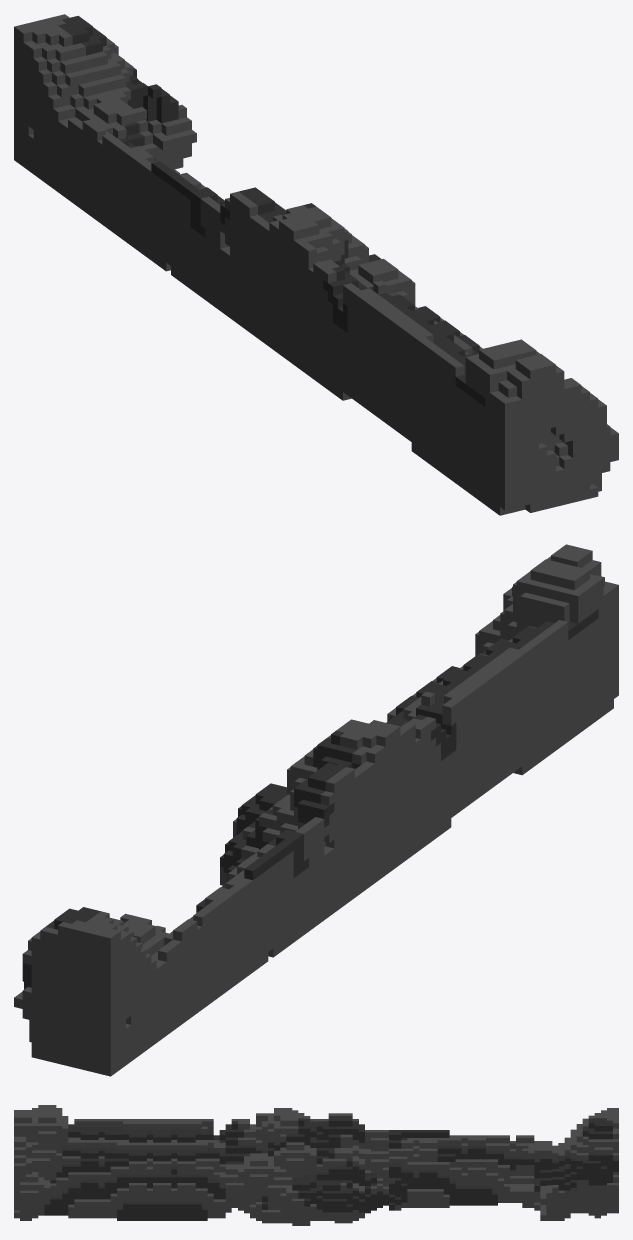
Rendered from Medieval Assets-233-Transition - Elevated Region No Stairs.obj.
The picture shows the model from 3 angles, top to bottom: view 1: azimuth 30°, elevation 25°; view 2: azimuth 150°, elevation 25°; view 3: azimuth 270°, elevation 25°; orthographic projection. The views are drawn at different scales.
Visible parts, largest first — view 1: Transition - Elevated Region No Stairs; view 2: Transition - Elevated Region No Stairs; view 3: Transition - Elevated Region No Stairs.
Boxes of the visible parts, bbox=[...] form: Transition - Elevated Region No Stairs: bbox=[14, 14, 618, 515]; Transition - Elevated Region No Stairs: bbox=[14, 544, 618, 1076]; Transition - Elevated Region No Stairs: bbox=[14, 1105, 618, 1225].
Size of the model in its own units: 1.5 by 1.6 by 10.
1 material, 1 textured.
